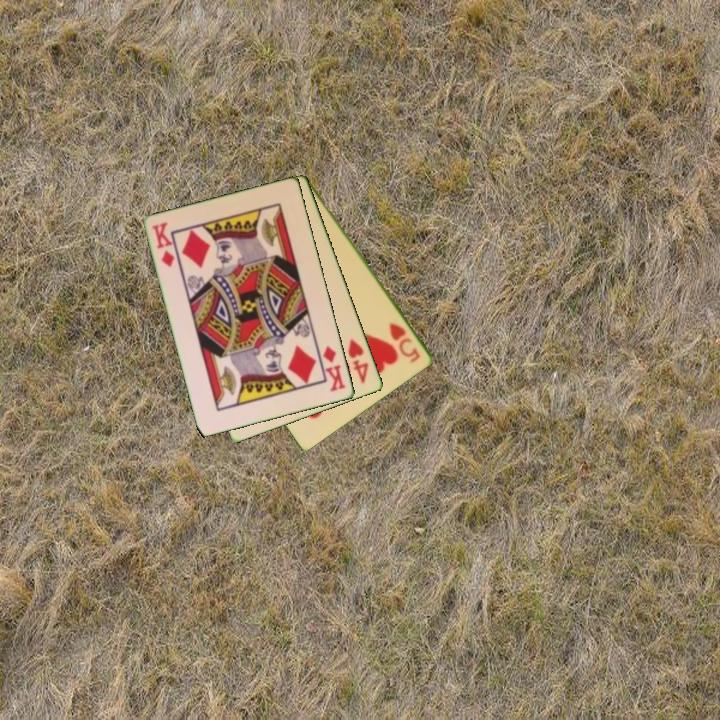4h: (345, 335, 372, 387)
5h: (386, 319, 423, 366)
Kd: (320, 343, 349, 395), (149, 219, 178, 271)
